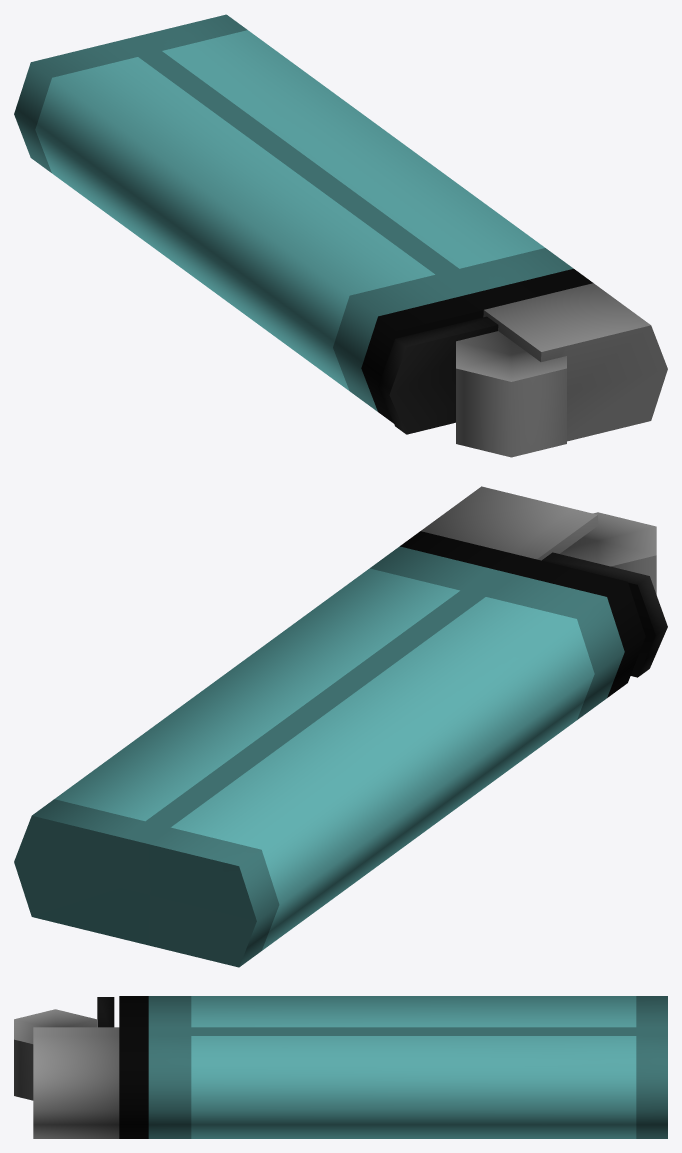
The model's file is human-household-items-lighter_v1.fbx.
3 renders of one model, top to bottom at view 1: azimuth 30°, elevation 25°; view 2: azimuth 150°, elevation 25°; view 3: azimuth 270°, elevation 25°, orthographic. The views are drawn at different scales.
Visible parts, largest first — view 1: Lighter; view 2: Lighter; view 3: Lighter.
Boxes of the visible parts, <box> form: Lighter: <box>14,14,667,457</box>; Lighter: <box>14,486,667,967</box>; Lighter: <box>14,996,667,1138</box>.
Bounding box in the file's own units: 0.0249 × 0.00965 × 0.08.
